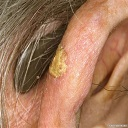Actinic: (48, 46, 71, 78)
